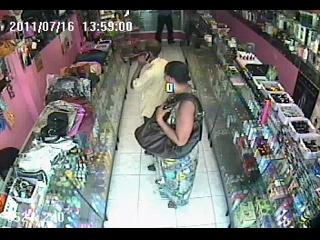Normal: (152, 60, 203, 208), (130, 40, 170, 124), (134, 110, 177, 158), (154, 10, 176, 45), (76, 50, 110, 66)
